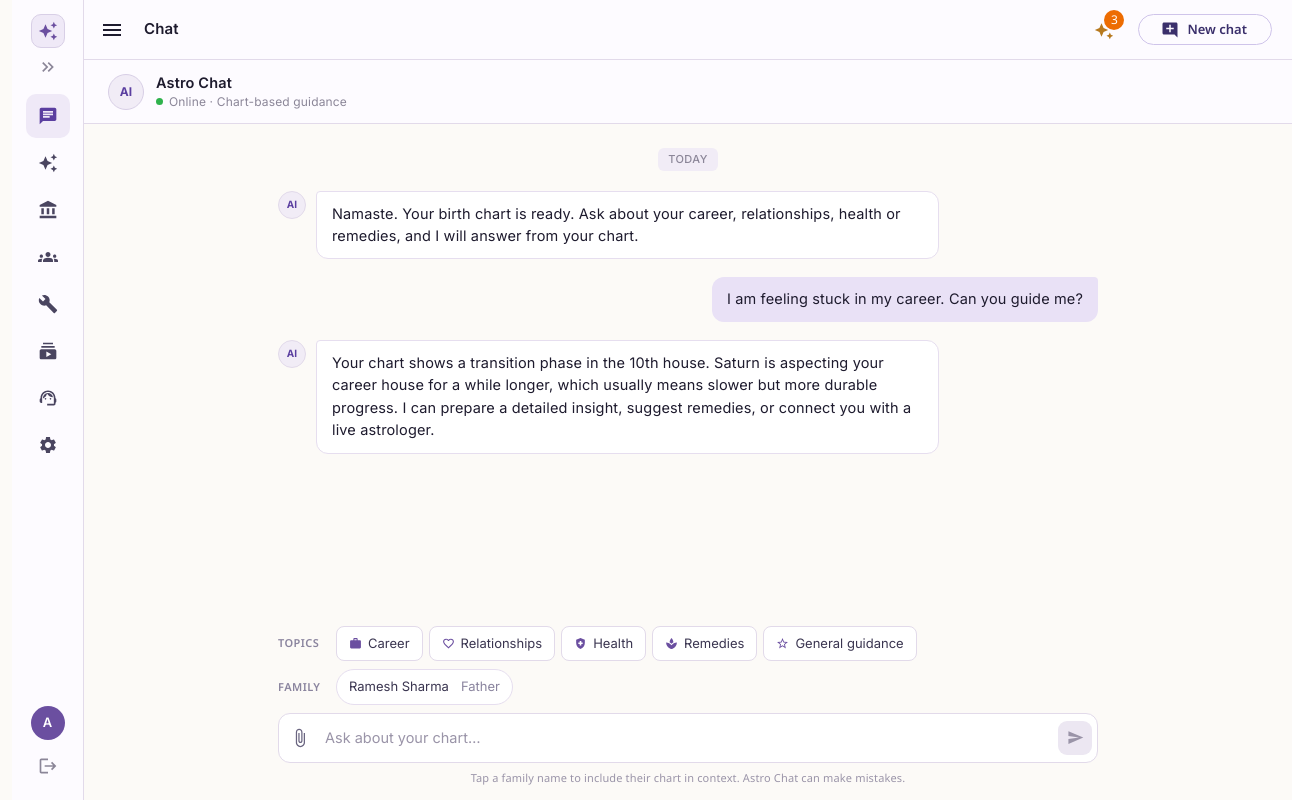
Test case: picking a recent chat in the side panel opens it in the workspace
Click the button named "open navigation". click: [112, 30]
box: [92,10,132,50]
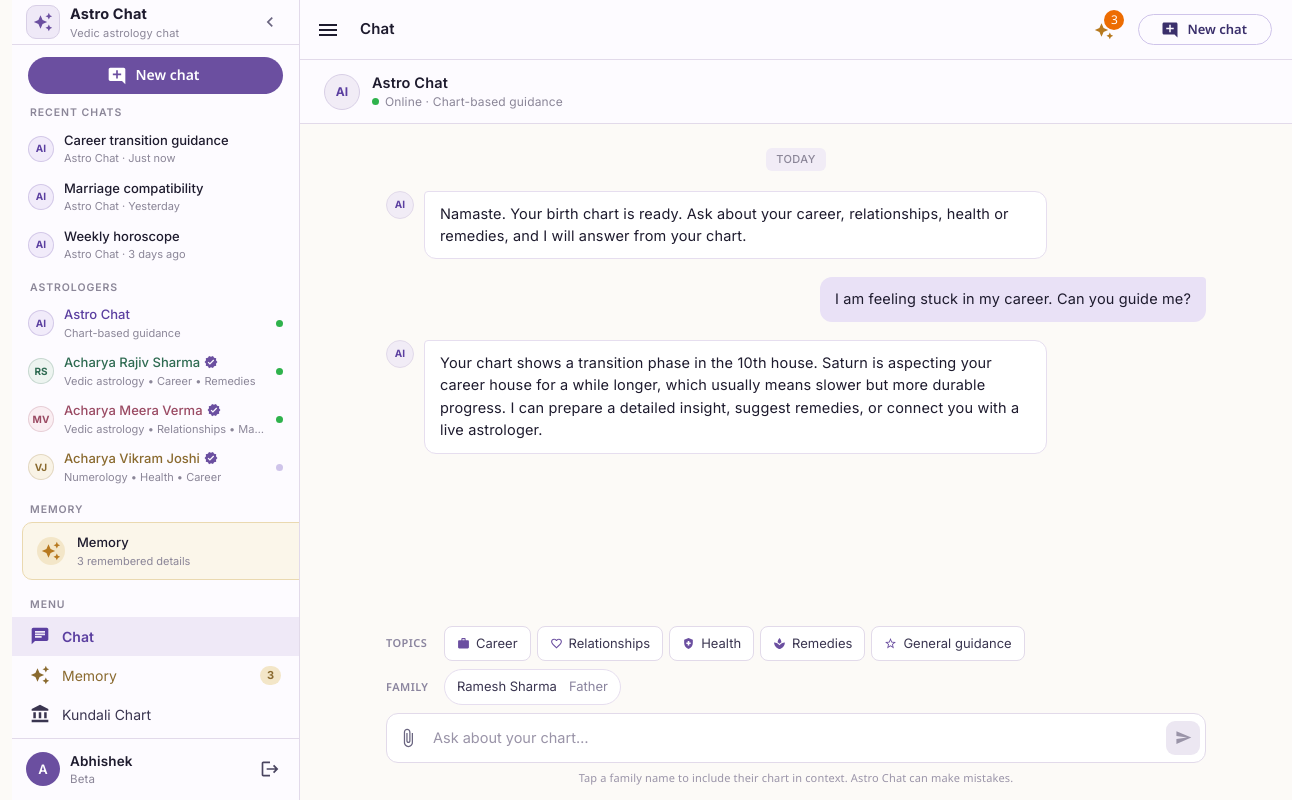
Click the text "Marriage compatibility". click: [134, 188]
box: [64,179,204,198]
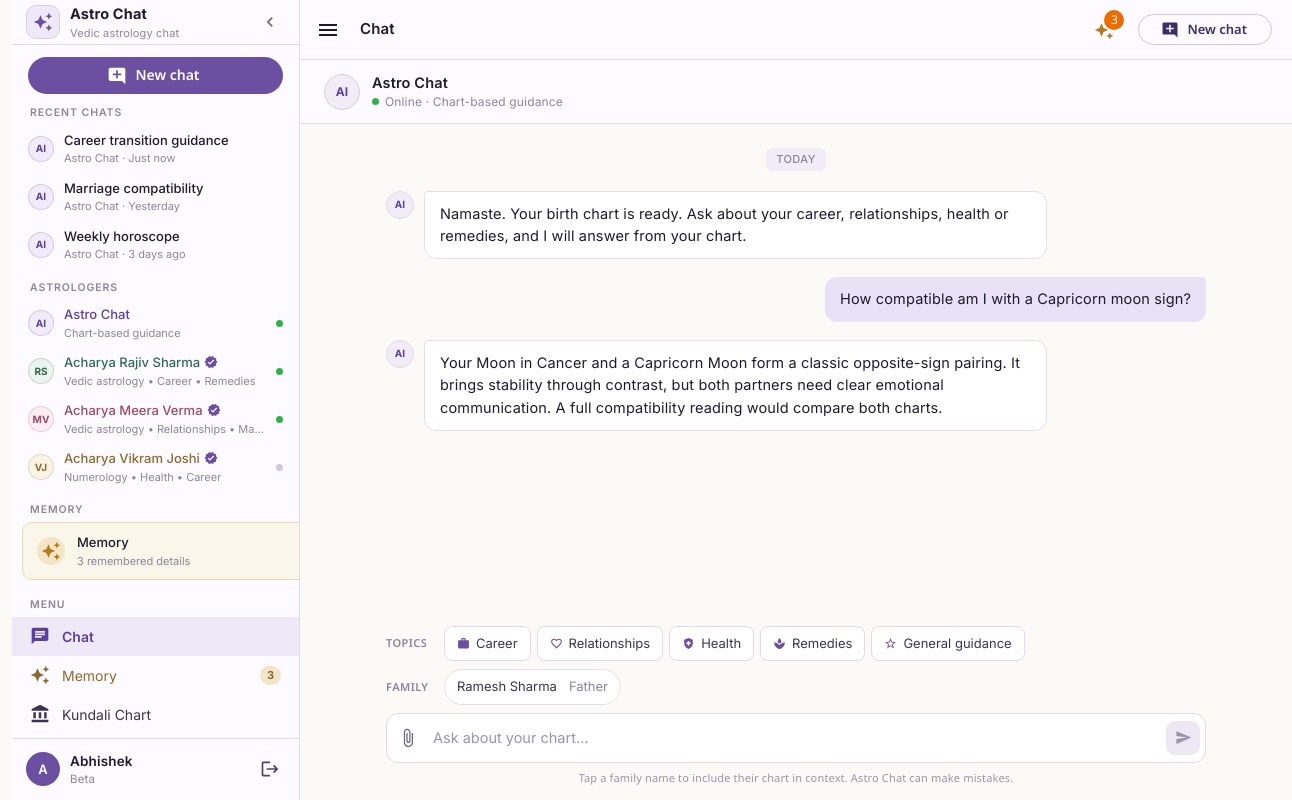
expect the 2nd text "Astro Chat" is shown: met, box [372,74,448,91]
expect the text "How compatible am I with a Capricorn moon sign?" is shown: met, box [825,277,1206,322]
